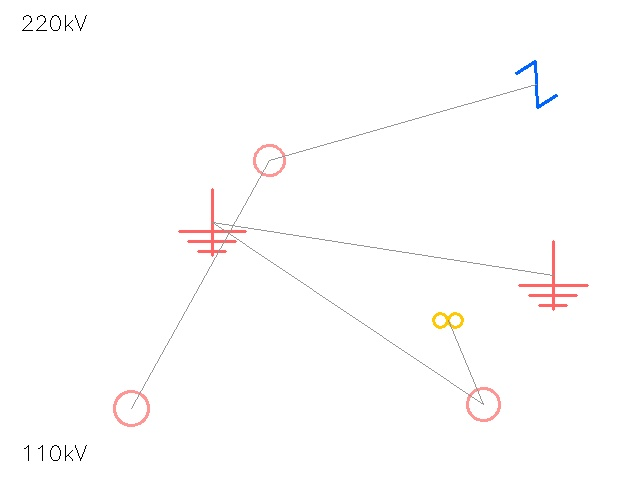circuit_breaker: (513, 61, 559, 107)
ground: (519, 241, 587, 309), (179, 189, 245, 255)
load_break_switch: (97, 374, 165, 442)
reactor: (450, 371, 516, 437)
transformer_2w: (429, 301, 467, 339)
voltage_transformer: (239, 130, 299, 190)
